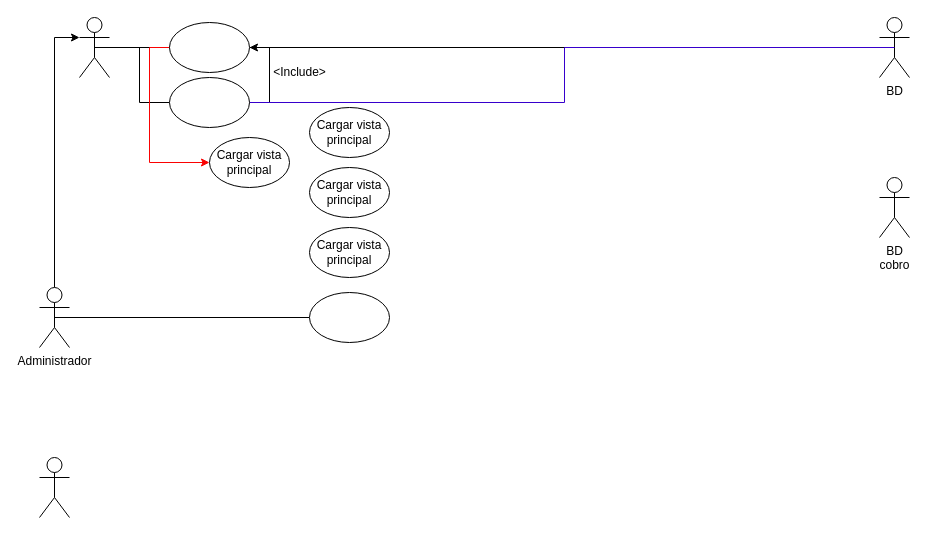
The diagram is 927 pixels wide and 535 high, and some of its shapes have lost their labels. The shapes that lost their labels are listed below. From the top down, each one's box as (x1, y1, x2, y2) in pixels, then its label:
(78, 16, 110, 78): empleado
(168, 22, 250, 72): login
(168, 76, 250, 128): register
(308, 292, 390, 342): Ver registros
